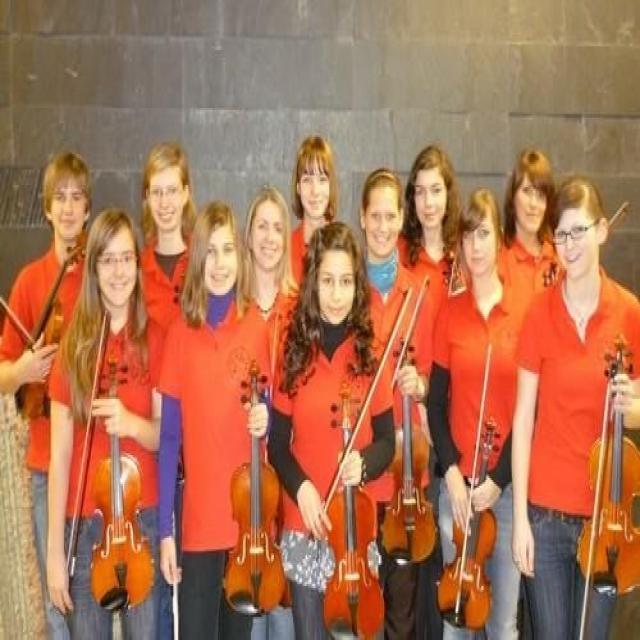violin: (88, 350, 156, 613), (575, 332, 640, 597), (322, 379, 386, 638), (223, 358, 284, 617), (437, 413, 500, 630), (12, 241, 88, 415), (382, 337, 438, 565)
